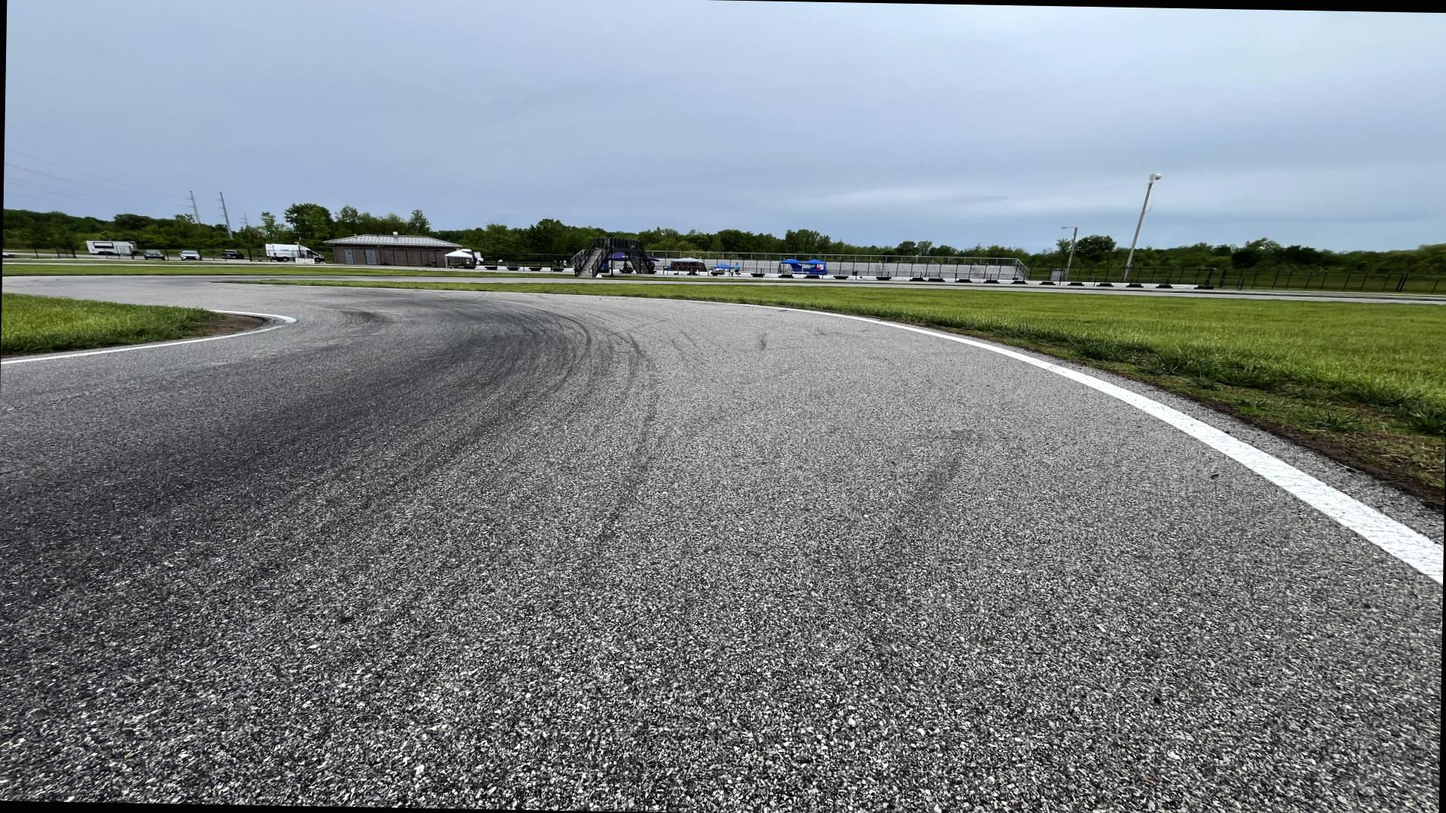white-line: (212, 283, 1443, 585), (1, 311, 296, 364)
